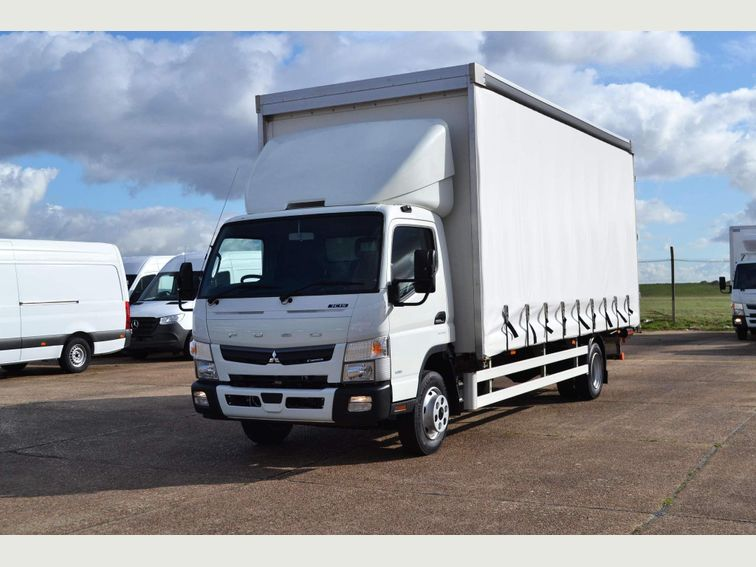Semi: (179, 62, 641, 455)
